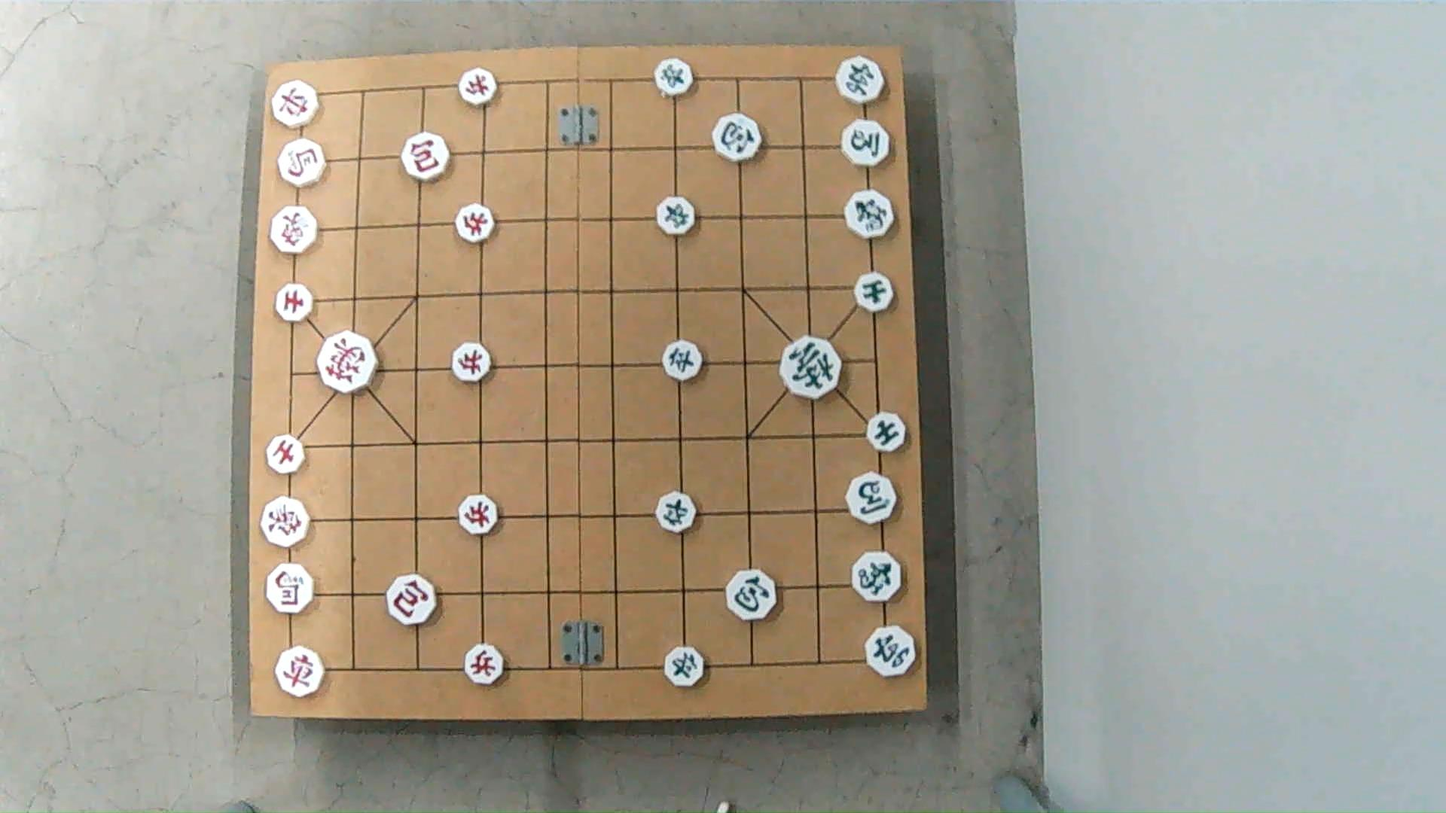cha_green: (865, 625, 916, 678), (835, 59, 886, 102)
cha_red: (276, 650, 328, 696), (272, 87, 323, 129)
jol_green: (663, 647, 706, 688), (654, 493, 700, 529), (663, 343, 706, 381), (653, 201, 697, 236), (653, 63, 696, 98)
jol_red: (449, 344, 492, 383), (457, 500, 502, 536), (456, 205, 499, 242), (463, 648, 506, 685), (458, 69, 502, 102)
ma_green: (844, 472, 898, 523), (842, 121, 893, 166)
ma_red: (269, 566, 319, 612), (279, 140, 328, 185)
po_green: (711, 113, 762, 161), (728, 573, 780, 619)
po_red: (388, 580, 441, 626), (398, 136, 449, 178)
sa_green: (866, 416, 910, 452), (856, 273, 894, 312)
sa_red: (264, 434, 306, 470), (277, 287, 317, 322)
sang_green: (853, 549, 905, 603), (844, 189, 895, 233)
sang_red: (270, 208, 322, 254), (258, 500, 310, 546)
wang_green: (778, 340, 844, 397)
wang_red: (316, 336, 377, 391)
